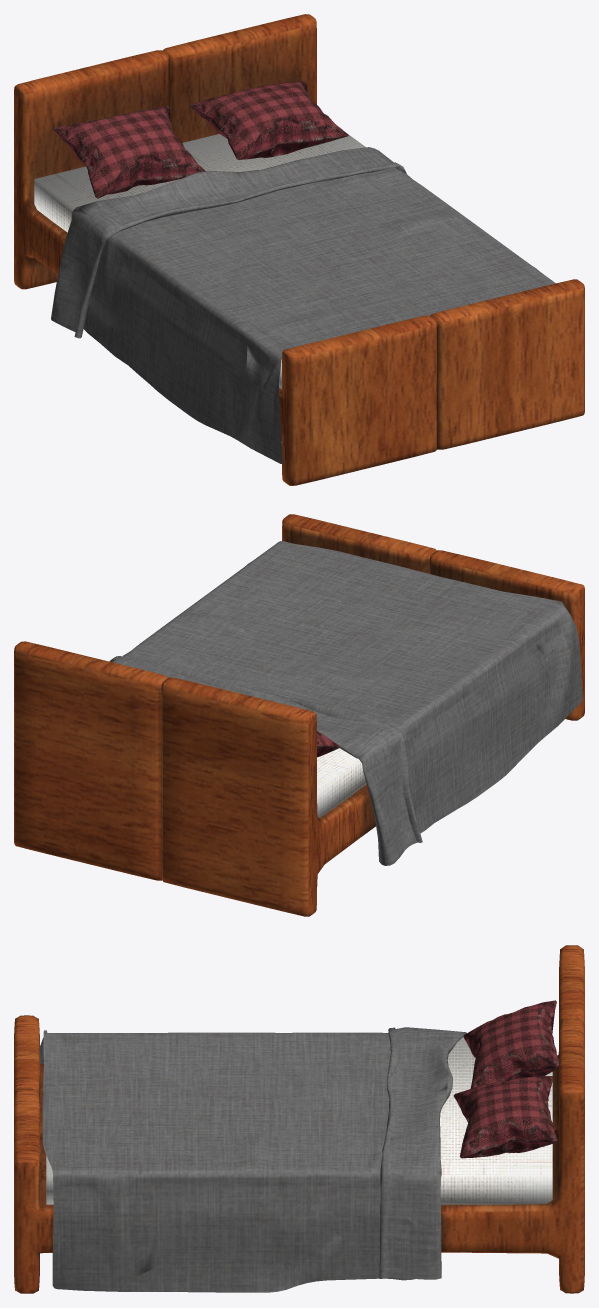
3 renders of one model, top to bottom at view 1: azimuth 30°, elevation 25°; view 2: azimuth 150°, elevation 25°; view 3: azimuth 270°, elevation 25°, orthographic.
Parts seen in each view (by area): view 1: Bed; view 2: Bed; view 3: Bed.
Boxes of the visible parts, left/top/right/bottom form: Bed: left=14, top=14, right=584, bottom=485; Bed: left=14, top=514, right=584, bottom=916; Bed: left=14, top=945, right=584, bottom=1293.
Bounding box in the file's own units: 4.6 × 2.6 × 6.6.
5 materials, 5 textured.
